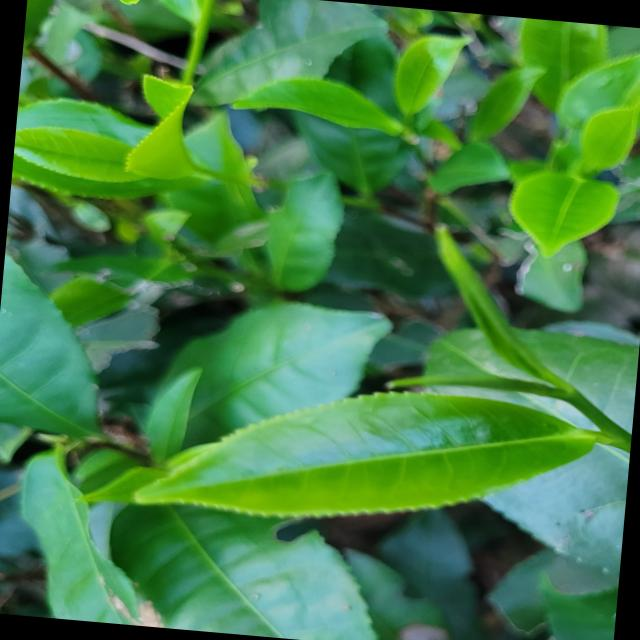Catagory A(1-2 days): (565, 88, 640, 182)
